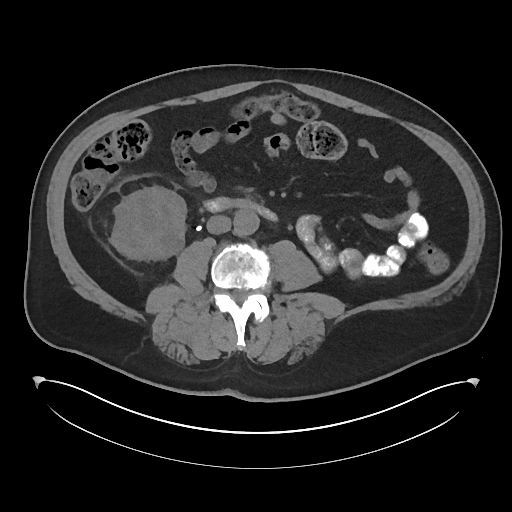Lesion: (108, 193, 186, 263)
